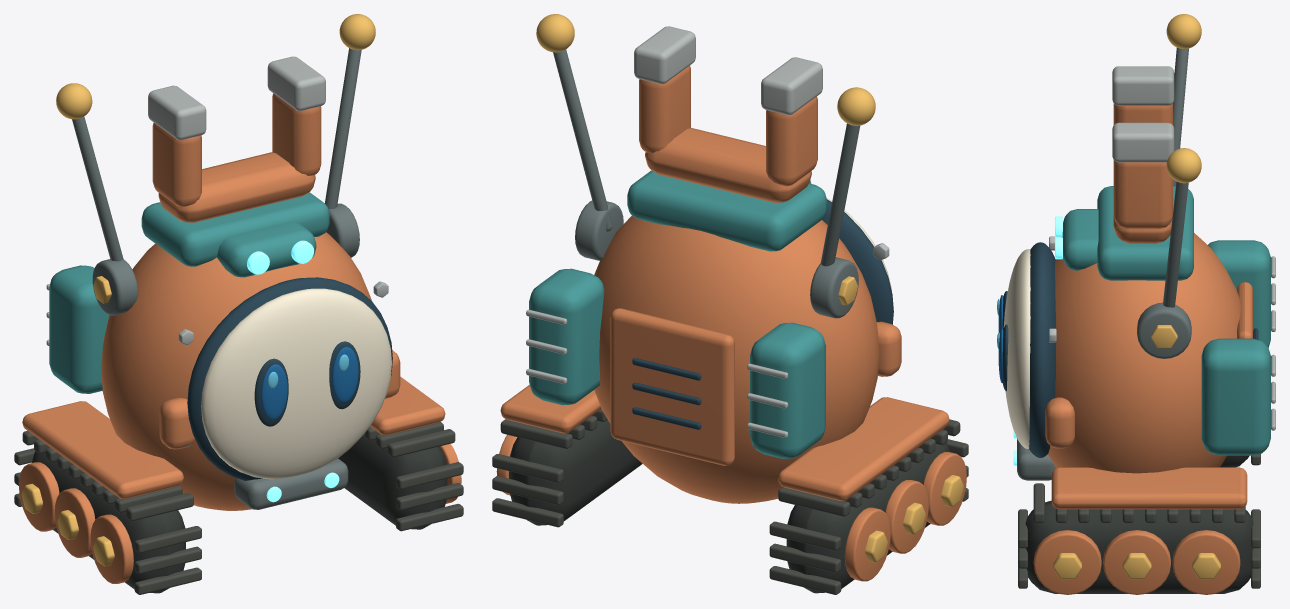
Rendered from robot-scout.glb.
3 views of the same model, side by side, from view 1: azimuth 30°, elevation 25°; view 2: azimuth 150°, elevation 25°; view 3: azimuth 270°, elevation 25° (orthographic). The views are drawn at different scales.
Parts seen in each view (by area): view 1: scout_Scout terracotta enamel, scout_Warm ivory, scout_Teal accents, scout_Worn tread, scout_Gunmetal, scout_Rubber, scout_Midnight blue, scout_Brushed steel, scout_Brass details, scout_Cobalt glass, scout_Electric ceramic; view 2: scout_Scout terracotta enamel, scout_Teal accents, scout_Worn tread, scout_Rubber, scout_Gunmetal, scout_Brushed steel, scout_Brass details, scout_Midnight blue; view 3: scout_Scout terracotta enamel, scout_Teal accents, scout_Rubber, scout_Brushed steel, scout_Gunmetal, scout_Midnight blue, scout_Brass details, scout_Warm ivory, scout_Worn tread, scout_Electric ceramic, scout_Cobalt glass.
Boxes of the visible parts, x1,y1,x2,y2 form: scout_Scout terracotta enamel: (19, 93, 461, 583); scout_Warm ivory: (201, 288, 391, 479); scout_Teal accents: (49, 192, 329, 393); scout_Worn tread: (14, 422, 463, 594); scout_Gunmetal: (72, 48, 361, 509); scout_Rubber: (32, 434, 447, 593); scout_Midnight blue: (187, 277, 392, 480); scout_Brushed steel: (46, 56, 388, 446); scout_Brass details: (21, 14, 375, 566); scout_Cobalt glass: (261, 347, 358, 419); scout_Electric ceramic: (247, 240, 339, 502); scout_Scout terracotta enamel: (496, 65, 966, 581); scout_Teal accents: (529, 170, 826, 458); scout_Worn tread: (492, 409, 968, 594); scout_Rubber: (509, 420, 949, 593); scout_Gunmetal: (553, 49, 860, 318); scout_Brushed steel: (526, 26, 889, 437); scout_Brass details: (536, 14, 963, 562); scout_Midnight blue: (632, 199, 893, 429); scout_Scout terracotta enamel: (1033, 103, 1252, 594); scout_Teal accents: (1062, 186, 1270, 455); scout_Rubber: (1025, 455, 1253, 593); scout_Brushed steel: (1049, 66, 1275, 430); scout_Gunmetal: (1017, 47, 1191, 480); scout_Midnight blue: (1002, 242, 1258, 457); scout_Brass details: (1053, 14, 1220, 579); scout_Warm ivory: (1003, 249, 1030, 448); scout_Worn tread: (1018, 454, 1260, 588); scout_Electric ceramic: (1013, 216, 1062, 465); scout_Cobalt glass: (998, 295, 1003, 382).
Size of the model in its own units: 1.59 by 1.99 by 1.12.
